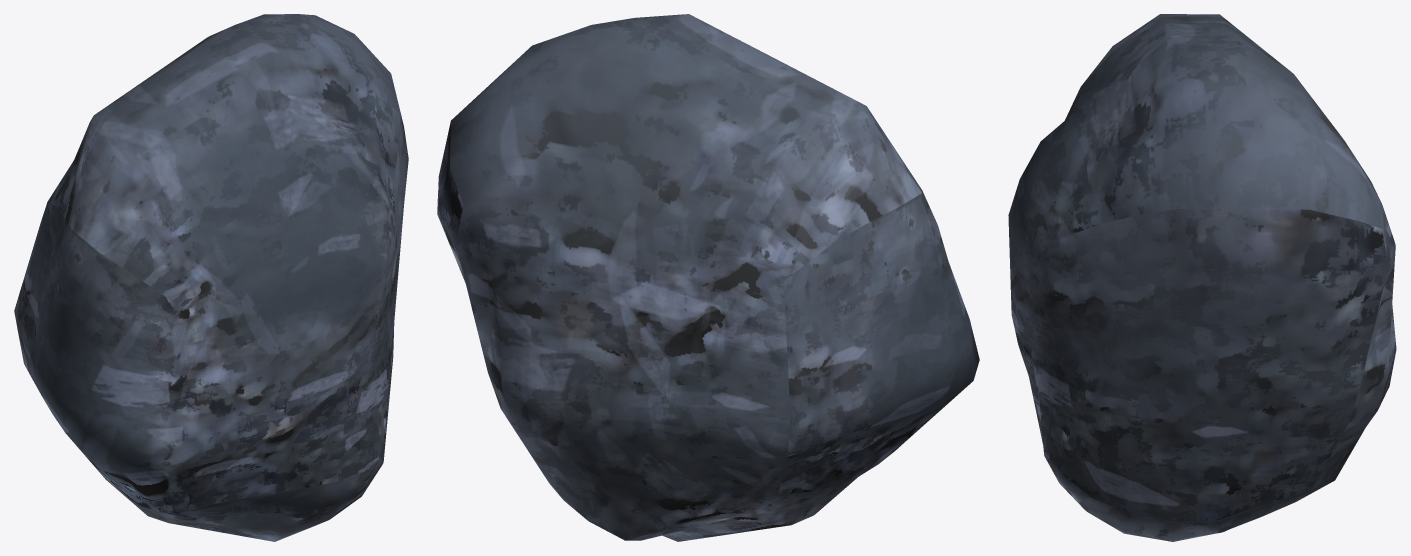
File: rock7.fbx
3 views of the same model, side by side, from view 1: azimuth 30°, elevation 25°; view 2: azimuth 150°, elevation 25°; view 3: azimuth 270°, elevation 25° (orthographic). The views are drawn at different scales.
Visible parts, largest first — view 1: pCube13; view 2: pCube13; view 3: pCube13.
Boxes of the visible parts, <box> form: pCube13: <box>14,14,408,541</box>; pCube13: <box>437,14,979,541</box>; pCube13: <box>1008,14,1396,541</box>.
Size of the model in its own units: 5.66 by 6.53 by 4.64.
